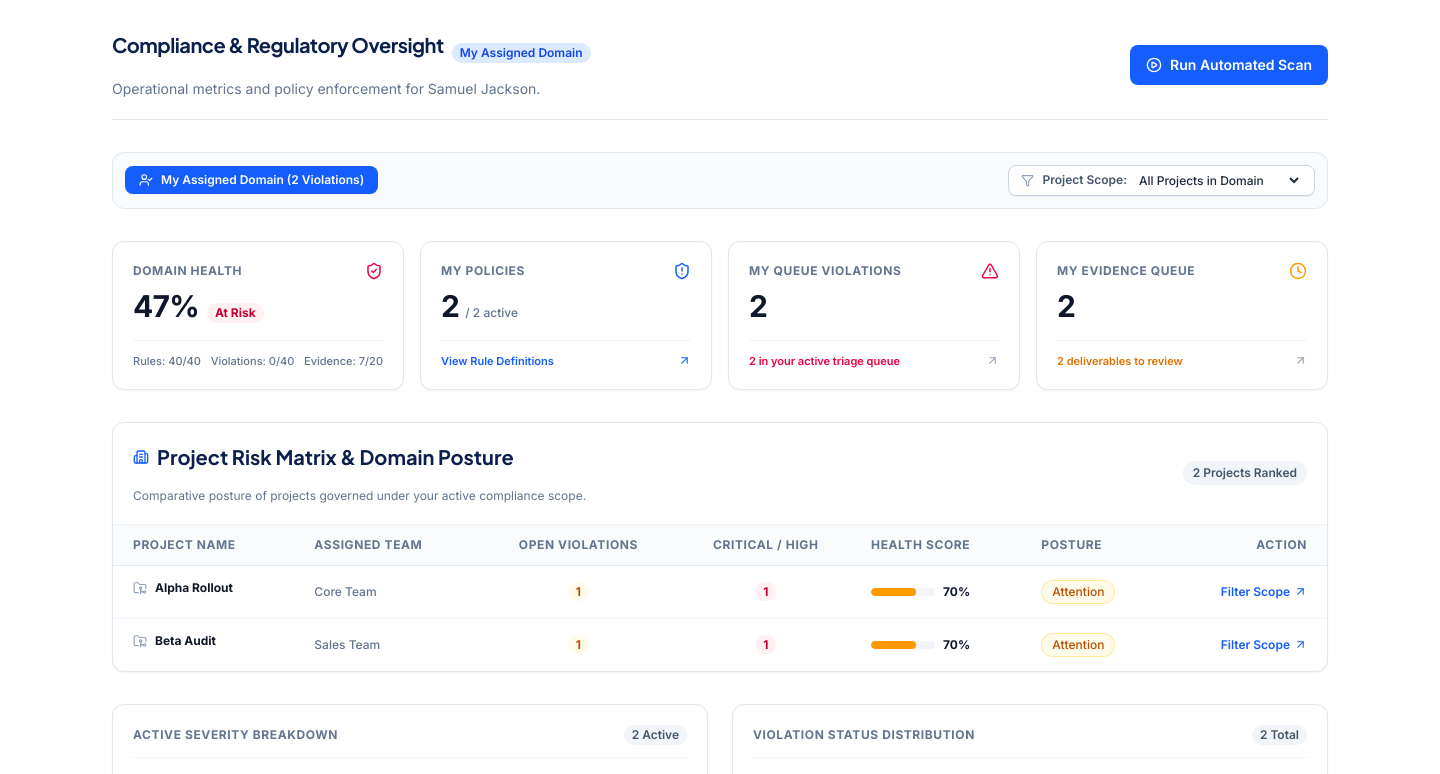
Test: ComplianceDashboard project scoping › updates Policies, Violations, and Evidence Queue dynamically when switching Project Scope
Expected: the text "/ 2 active" is shown, [465,305,518,320]
Expected: the text "2 in your active triage queue" is shown, [749,353,900,369]
# Select Project 2 ("Beta Audit"): 1 applicable policy (Global), 1 violation, 1 pending evidence
Select "Beta Audit" in the dropdown named "Project Scope" at (1218, 180), box [1135,172,1302,189]
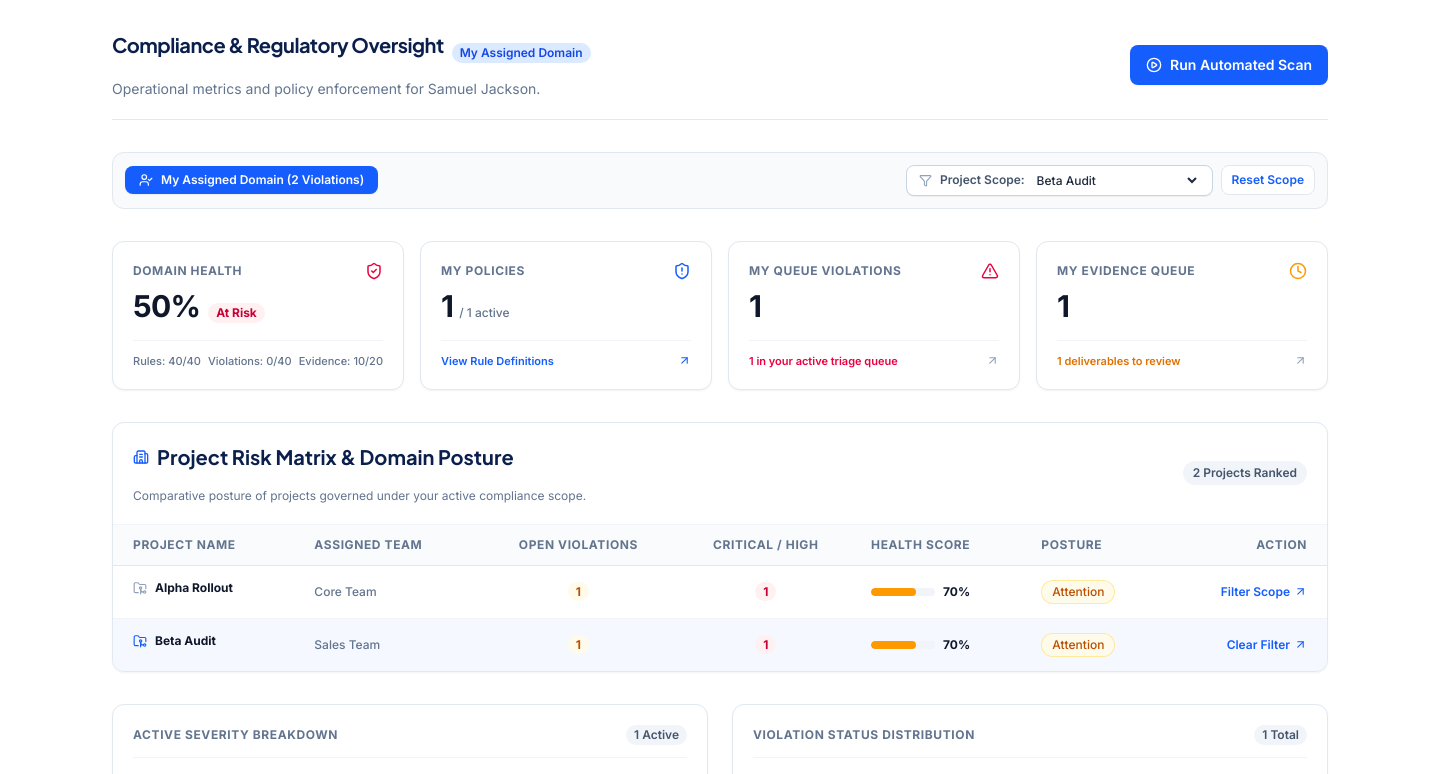
Expected: the text "/ 1 active" is shown, [459,305,510,320]
Expected: the text "1 in your active triage queue" is shown, [749,353,898,369]
Expected: the text "1 deliverables to review" is shown, [1057,353,1180,369]
# Reset back to All via the Reset Scope button
Click the button "Reset Scope" at (1268, 180), box [1221,165,1315,195]
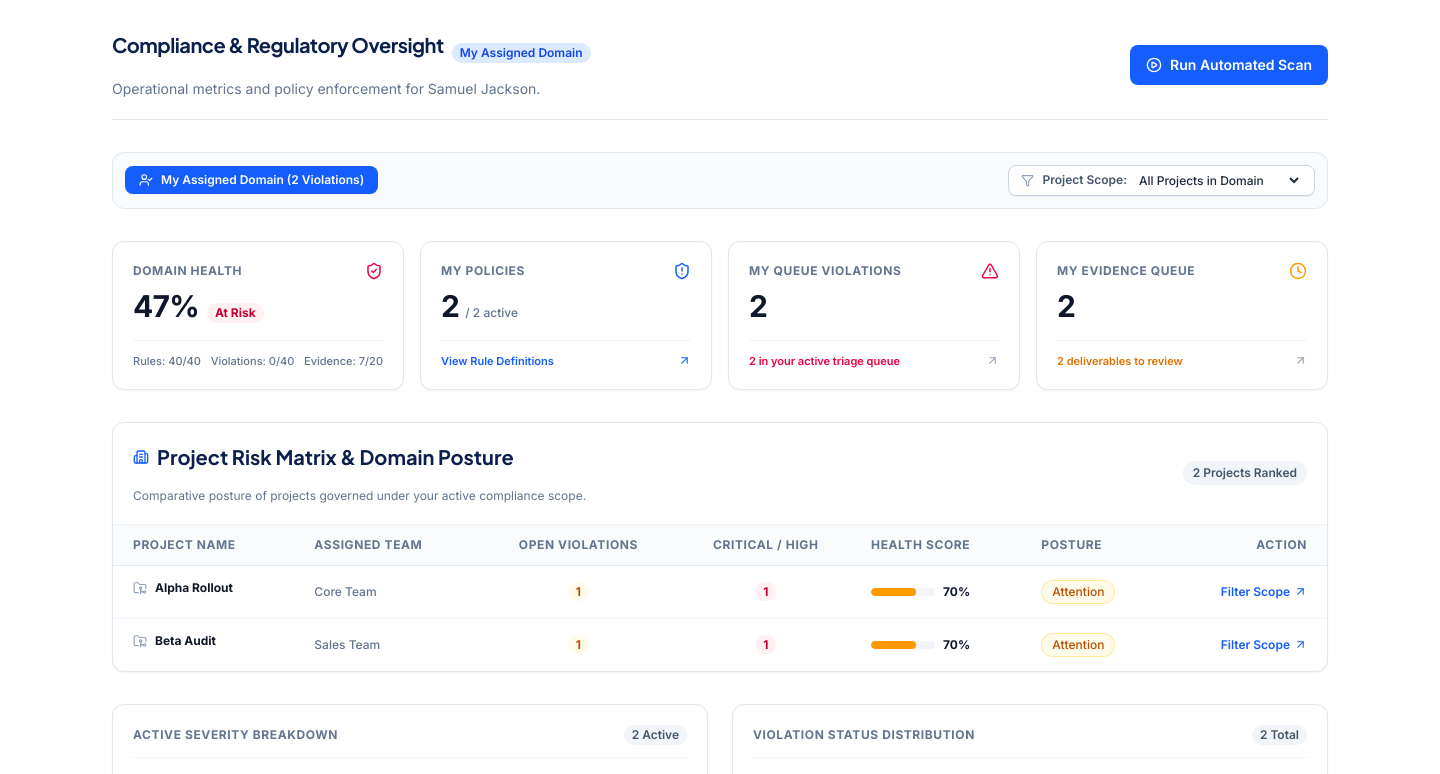
Expected: the text "/ 2 active" is shown, [465,305,518,320]
Expected: the text "2 deliverables to review" is shown, [1057,353,1183,369]
